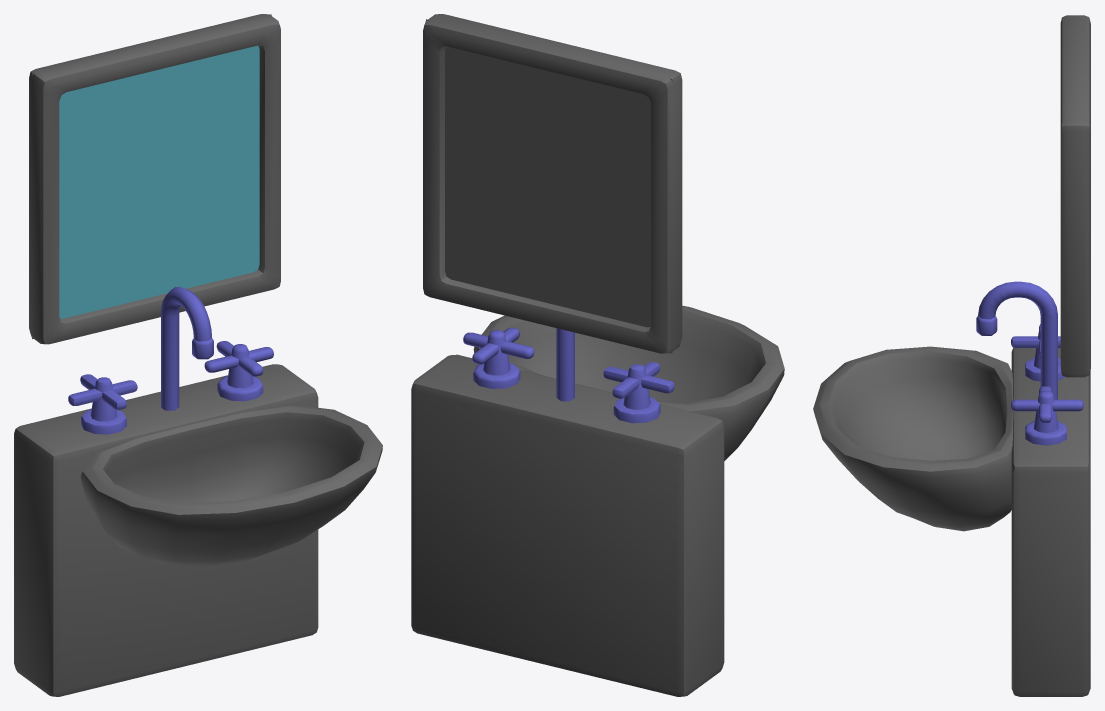
The model's file is SM_sink_bathroom.fbx.
3 renders of one model, left to right at view 1: azimuth 30°, elevation 25°; view 2: azimuth 150°, elevation 25°; view 3: azimuth 270°, elevation 25°, orthographic. The views are drawn at different scales.
Visible parts, largest first — view 1: Box394; view 2: Box394; view 3: Box394.
Part boxes in pixels (x1,y1,x2,y2): Box394: [14, 14, 382, 696]; Box394: [411, 14, 784, 696]; Box394: [813, 15, 1090, 696].
Bounding box in the file's own units: 34.49 × 72.36 × 31.98.
